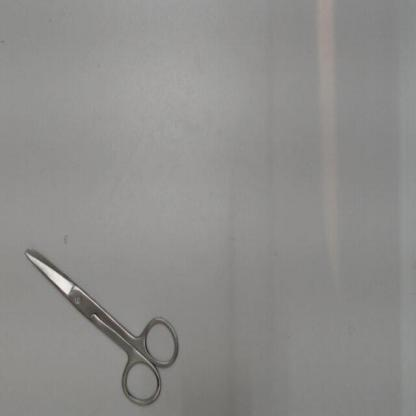Dressing Scissors: (16, 235, 186, 411)
